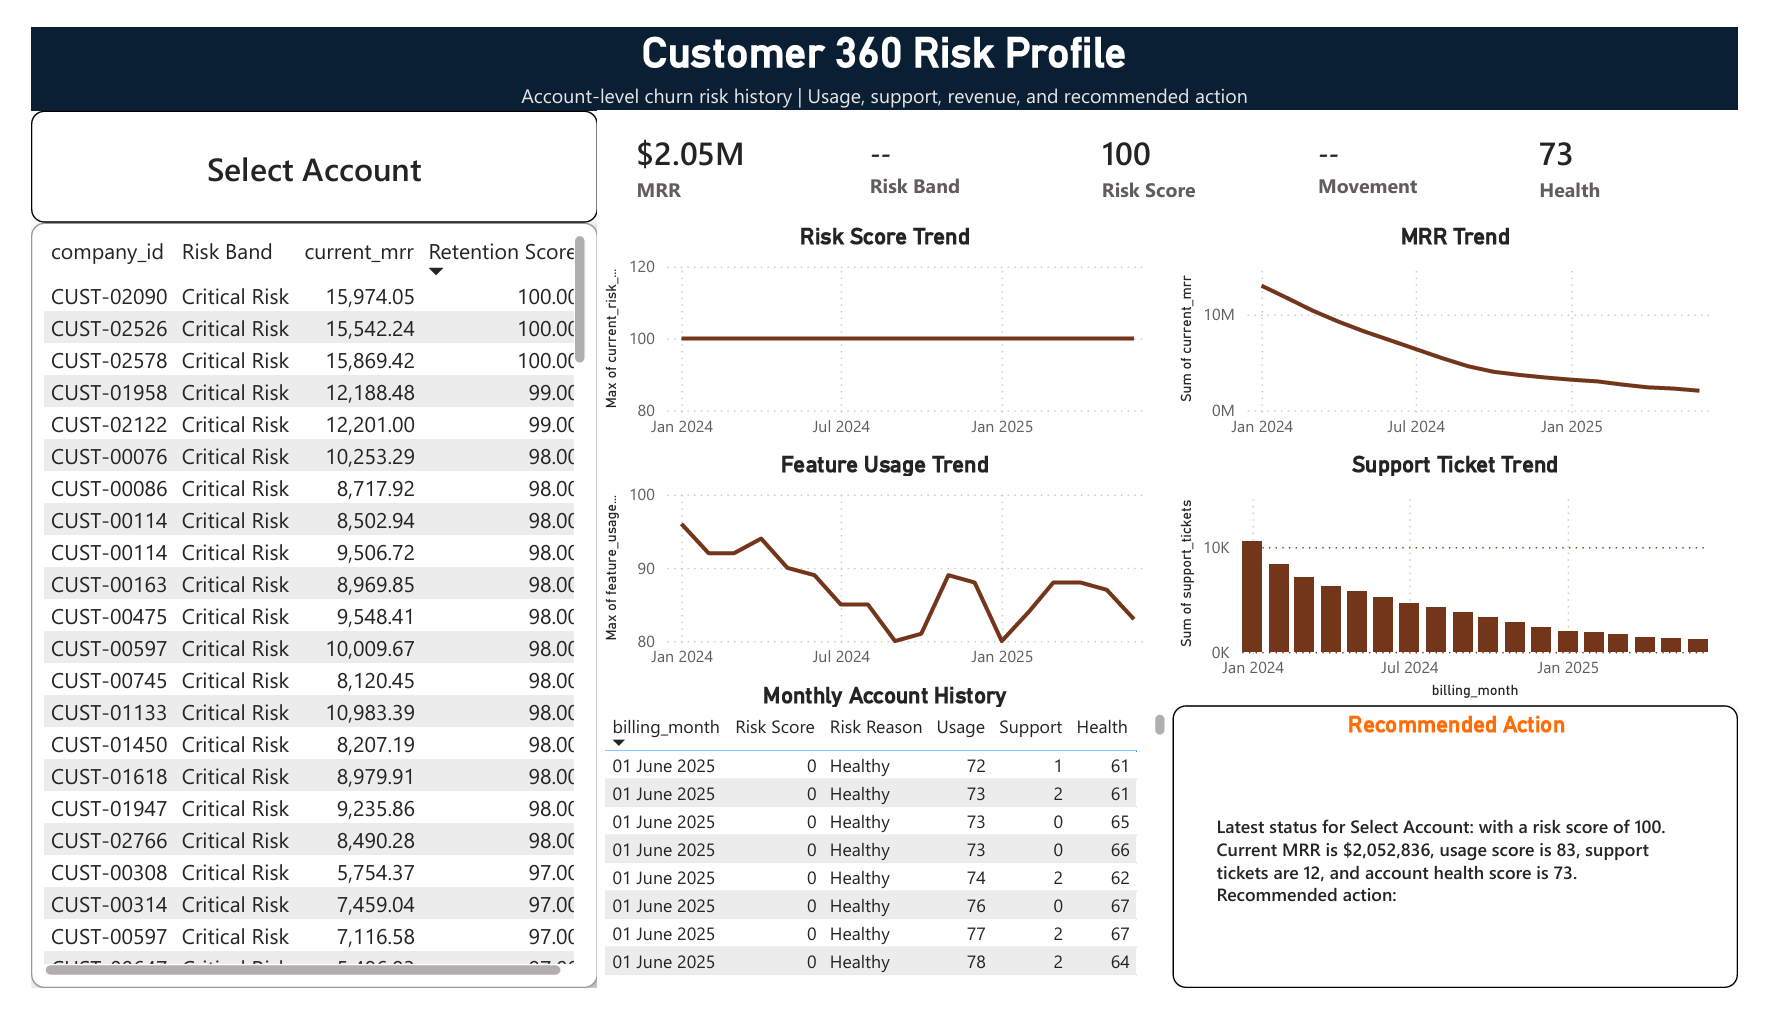

Layout of this report page (visuals, bound fields, positions):
{"tool":"powerbi","page":{"name":"Customer 360","canvas":[1280,720],"ordinal":2},"visuals":[{"type":"shape","title":"Customer 360 Risk Profile","box":[0,0,1280,62],"z":0},{"type":"tableEx","title":"Select Account","fields":{"Values":["Risk Migration.company_id","Risk Migration.current_risk_band","Risk Migration.current_mrr","Risk Migration.Retention Priority Score"]},"box":[0,146.5,425.4,573.1],"z":2000},{"type":"cardVisual","fields":{"Data":["Risk Migration.Selected Account"]},"box":[0,62.4,425.4,84.1],"z":4000},{"type":"cardVisual","fields":{"Data":["Risk Migration.Selected Account Movement"]},"box":[936.1,62.4,165.6,84.1],"z":5000},{"type":"cardVisual","fields":{"Data":["Risk Migration.Selected Account Risk Score"]},"box":[774.4,62.4,161.8,84.1],"z":6000},{"type":"cardVisual","fields":{"Data":["Risk Migration.Selected Account Risk Band"]},"box":[599.9,62.4,174.5,84.1],"z":7000},{"type":"cardVisual","fields":{"Data":["Risk Migration.Selected Account MRR"]},"box":[425.4,62.4,174.5,84.1],"z":8000},{"type":"cardVisual","fields":{"Data":["Risk Migration.Selected Account Health Score"]},"box":[1101.7,62.4,178.3,84.1],"z":10001},{"type":"lineChart","title":"Risk Score Trend","fields":{"Y":["Max(Risk Migration.current_risk_score)"],"Category":["Risk Migration.billing_month"]},"box":[425.4,146.5,430.5,170.7],"z":10002},{"type":"lineChart","title":"MRR Trend","fields":{"Y":["Sum(Risk Migration.current_mrr)"],"Category":["Risk Migration.billing_month"]},"box":[855.9,146.5,424.1,170.7],"z":10003},{"type":"lineChart","title":"Feature Usage Trend","fields":{"Y":["Max(Risk Migration.feature_usage_score)"],"Category":["Risk Migration.billing_month"]},"box":[425.4,317.1,430.5,173.2],"z":10004},{"type":"clusteredColumnChart","title":"Support Ticket Trend","fields":{"Y":["Sum(Risk Migration.support_tickets)"],"Category":["Risk Migration.billing_month"]},"box":[855.9,317.1,424.1,191],"z":10005},{"type":"tableEx","title":"Monthly Account History","fields":{"Values":["Risk Migration.billing_month","Risk Migration.current_risk_score","Risk Migration.churn_risk_reason","Risk Migration.feature_usage_score","Risk Migration.support_tickets","Risk Migration.account_health_score"]},"box":[425.4,490.3,430.5,229.3],"z":10006},{"type":"cardVisual","title":"Recommended Action","fields":{"Data":["Risk Migration.Customer 360 Insight"]},"box":[855.9,508.2,424.1,211.4],"z":10007}]}

Visuals, with their boxes in screenshot pixels (x1, y1, x2, y2), scaled from the page's 1280x720 canvas onto the 1770x1020 screenshot:
"Customer 360 Risk Profile" shape: [x1=0, y1=0, x2=1769, y2=88]
"Select Account" tableEx: [x1=0, y1=208, x2=588, y2=1019]
cardVisual - Risk Migration.Selected Account: [x1=0, y1=88, x2=588, y2=208]
cardVisual - Risk Migration.Selected Account Movement: [x1=1294, y1=88, x2=1523, y2=208]
cardVisual - Risk Migration.Selected Account Risk Score: [x1=1071, y1=88, x2=1295, y2=208]
cardVisual - Risk Migration.Selected Account Risk Band: [x1=830, y1=88, x2=1071, y2=208]
cardVisual - Risk Migration.Selected Account MRR: [x1=588, y1=88, x2=830, y2=208]
cardVisual - Risk Migration.Selected Account Health Score: [x1=1523, y1=88, x2=1769, y2=208]
"Risk Score Trend" lineChart: [x1=588, y1=208, x2=1184, y2=449]
"MRR Trend" lineChart: [x1=1184, y1=208, x2=1769, y2=449]
"Feature Usage Trend" lineChart: [x1=588, y1=449, x2=1184, y2=695]
"Support Ticket Trend" clusteredColumnChart: [x1=1184, y1=449, x2=1769, y2=720]
"Monthly Account History" tableEx: [x1=588, y1=695, x2=1184, y2=1019]
"Recommended Action" cardVisual: [x1=1184, y1=720, x2=1769, y2=1019]
